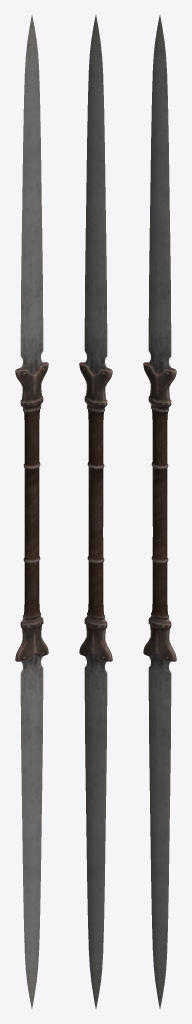
File: weapon-wp_a_1100.glb
3 views of the same model, side by side, from view 1: azimuth 30°, elevation 25°; view 2: azimuth 150°, elevation 25°; view 3: azimuth 330°, elevation 25° (orthographic).
Visible parts, largest first — view 1: wp_a_1100_mesh; view 2: wp_a_1100_mesh; view 3: wp_a_1100_mesh.
Boxes of the visible parts, x1,y1,x2,y2 form: wp_a_1100_mesh: (15, 15, 48, 1008); wp_a_1100_mesh: (79, 15, 112, 1008); wp_a_1100_mesh: (143, 15, 176, 1008).
Bounding box in the file's own units: 0.0937 × 2.74 × 0.0354.
2 materials, 2 textured.
